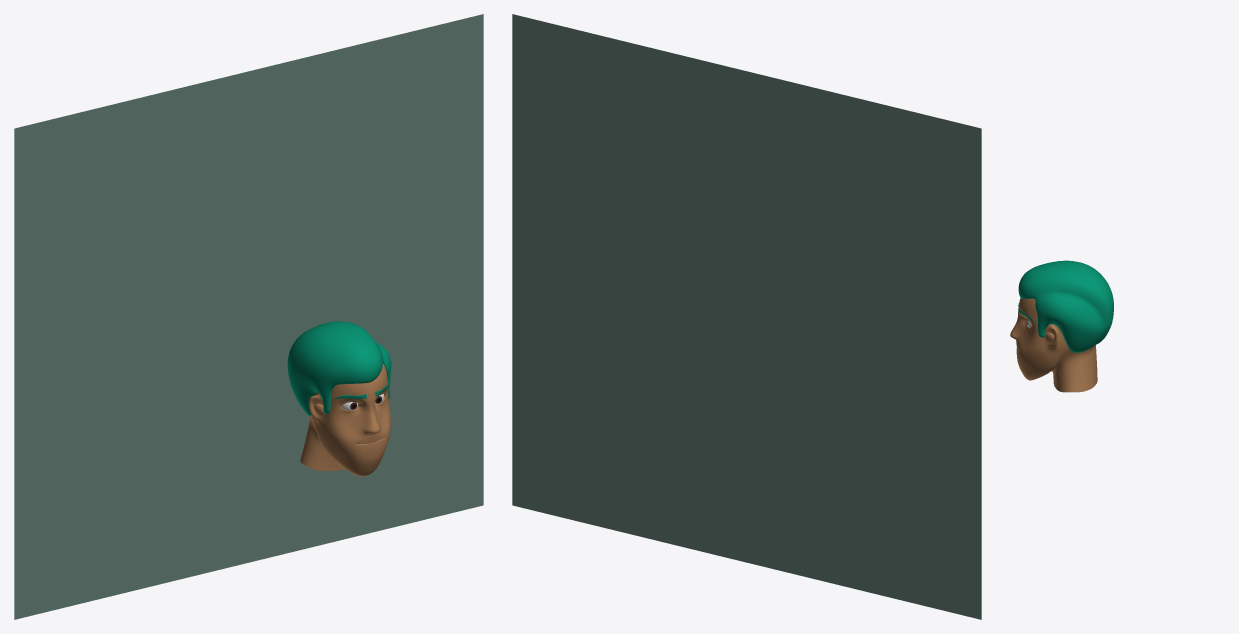
Rendered from George.fbx.
3 renders of one model, left to right at view 1: azimuth 30°, elevation 25°; view 2: azimuth 150°, elevation 25°; view 3: azimuth 270°, elevation 25°, orthographic. The views are drawn at different scales.
Visible parts, largest first — view 1: Plane, Face, Hair And Beard; view 2: Plane; view 3: Hair And Beard, Face.
Boxes of the visible parts, x1,y1,x2,y2 form: Plane: (14, 14, 483, 619); Face: (300, 363, 390, 476); Hair And Beard: (287, 321, 391, 416); Plane: (512, 14, 981, 619); Hair And Beard: (1018, 260, 1113, 352); Face: (1010, 298, 1097, 392).
Size of the model in its own units: 247 by 247 by 116.
